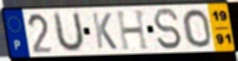2: (26, 12, 54, 55)
H: (114, 8, 151, 52)
K: (90, 11, 119, 51)
O: (181, 8, 214, 49)
S: (152, 8, 184, 52)
U: (52, 11, 86, 55)
